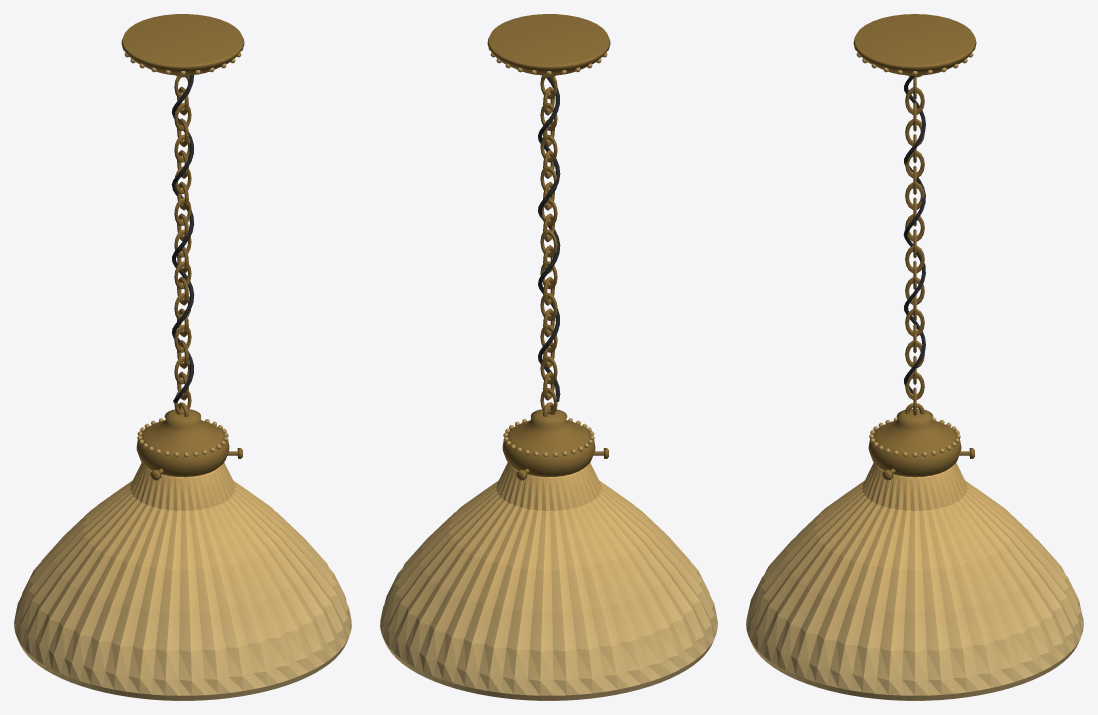
The model's file is library-pendant-light.glb.
3 renders of one model, left to right at view 1: azimuth 30°, elevation 25°; view 2: azimuth 150°, elevation 25°; view 3: azimuth 270°, elevation 25°, orthographic.
Parts seen in each view (by area): view 1: library_pendant_light; view 2: library_pendant_light; view 3: library_pendant_light.
Boxes of the visible parts, x1=… form: library_pendant_light: x1=14, y1=14, x2=351, y2=700; library_pendant_light: x1=380, y1=14, x2=717, y2=700; library_pendant_light: x1=746, y1=14, x2=1083, y2=700.
Bounding box in the file's own units: 0.406 × 0.808 × 0.406.
